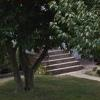stairs: (36, 50, 82, 75)
